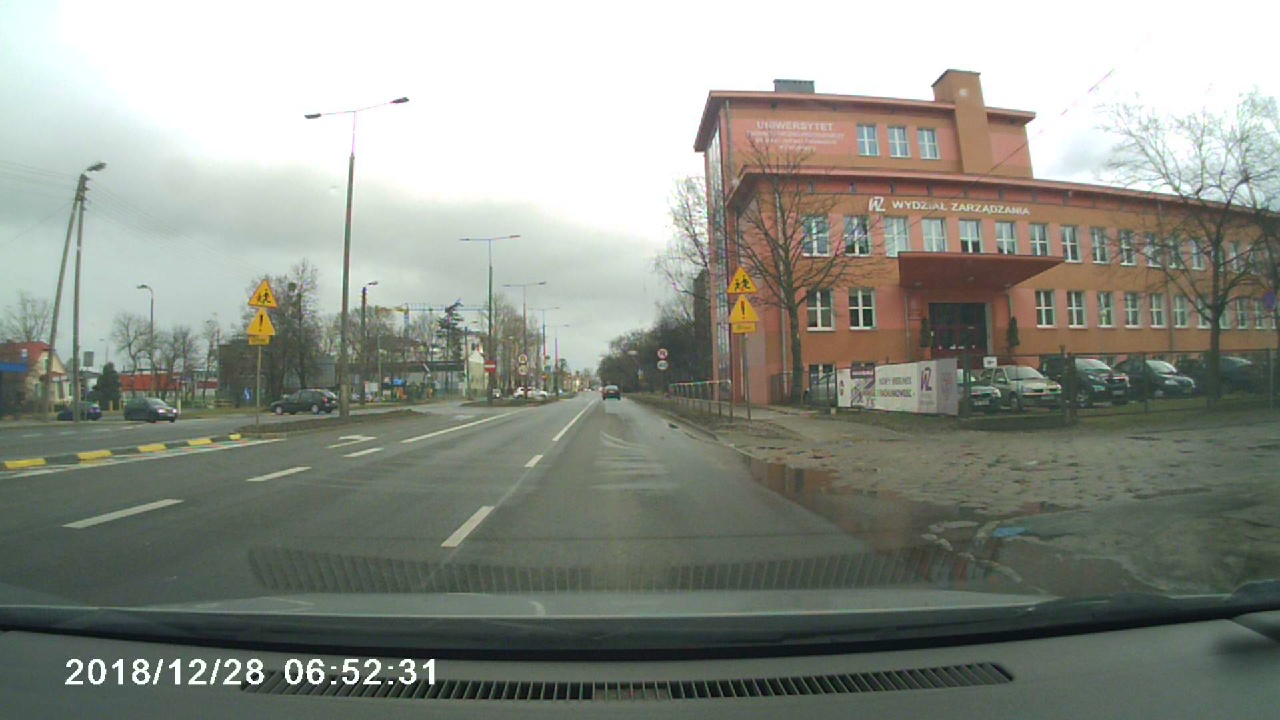A17: (723, 262, 759, 297), (245, 278, 281, 309)
A30: (723, 296, 765, 324), (245, 310, 283, 337)
